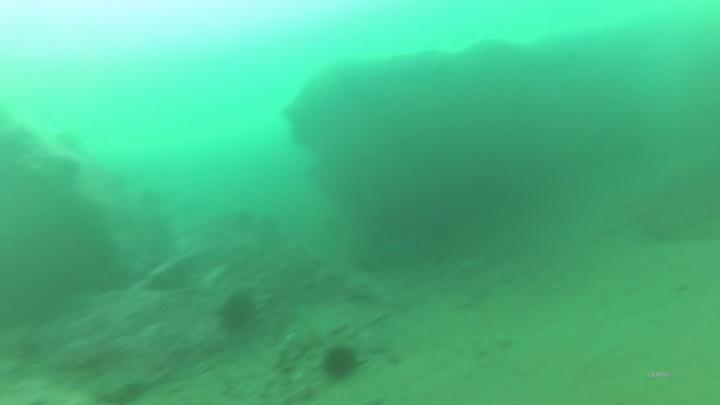echinus: (316, 339, 364, 383), (217, 289, 262, 335)
